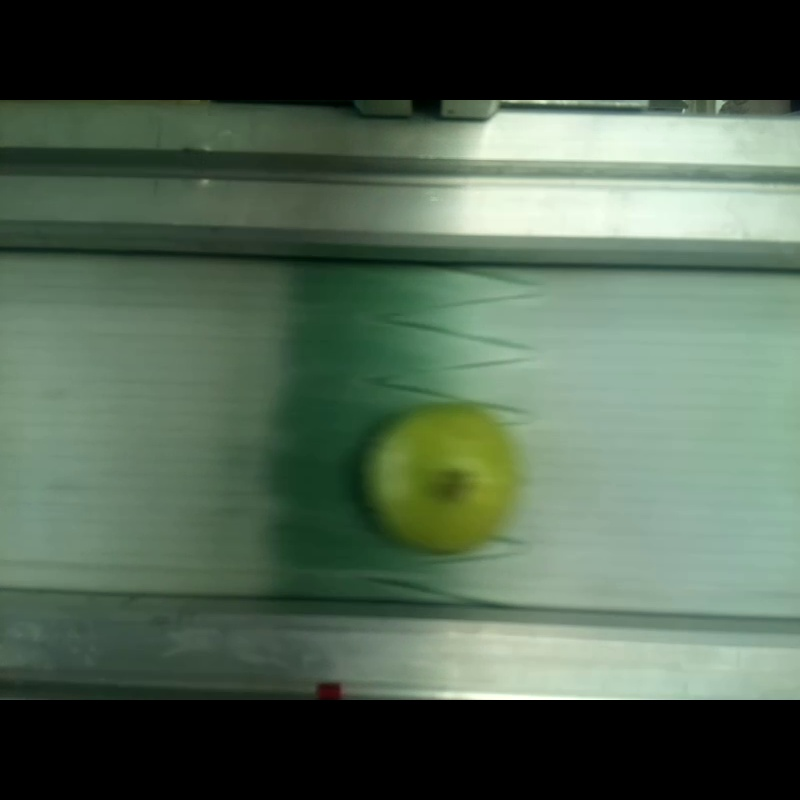lime: (367, 405, 514, 550)
